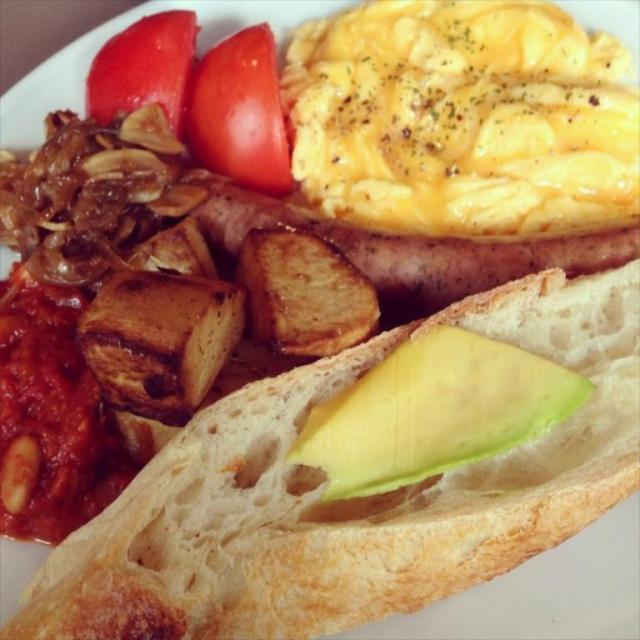Sandwich: (0, 2, 639, 638)
